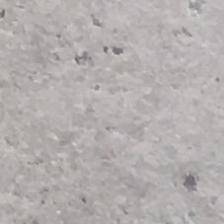Non_Crack: (24, 72, 212, 207)
